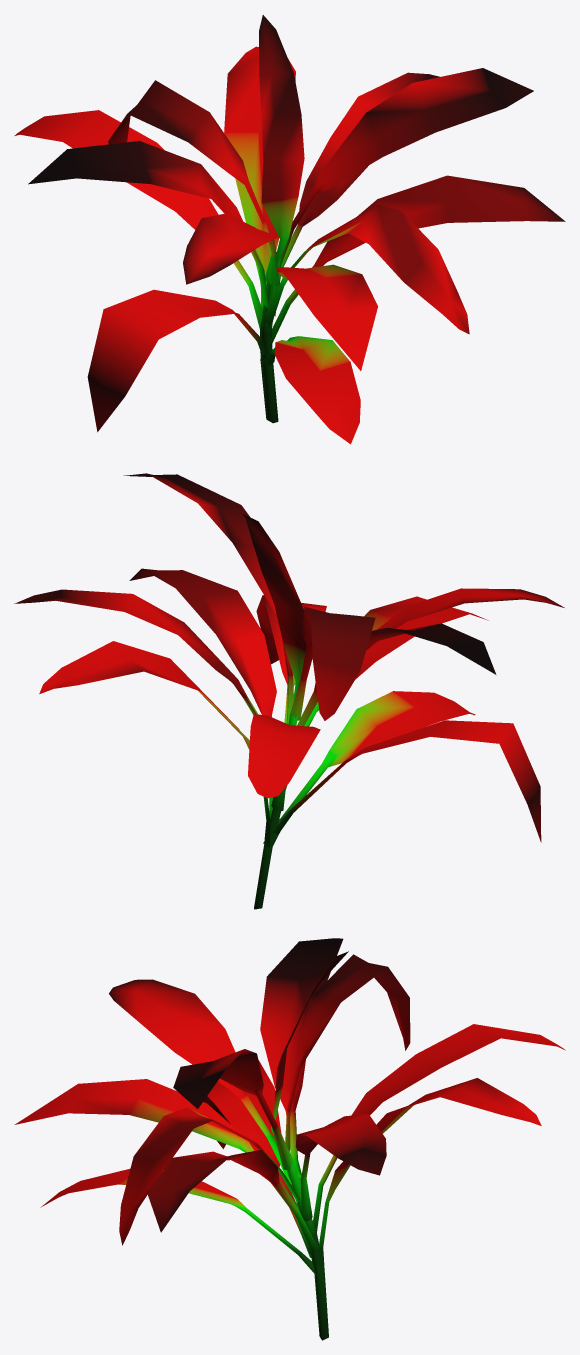
The model's file is Var8_LOD1.fbx.
The picture shows the model from 3 angles, top to bottom: view 1: azimuth 30°, elevation 25°; view 2: azimuth 150°, elevation 25°; view 3: azimuth 270°, elevation 25°; orthographic projection. The views are drawn at different scales.
Parts seen in each view (by area): view 1: _19b5_Var8_LOD1; view 2: _19b5_Var8_LOD1; view 3: _19b5_Var8_LOD1.
Part boxes in pixels (bbox=[...]): _19b5_Var8_LOD1: bbox=[14, 15, 565, 444]; _19b5_Var8_LOD1: bbox=[14, 473, 564, 909]; _19b5_Var8_LOD1: bbox=[14, 938, 565, 1340].
Size of the model in its own units: 38.88 by 32.78 by 42.18.
